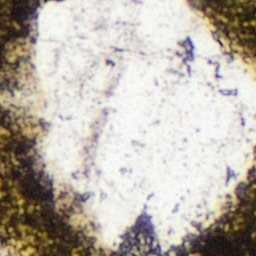cement_matrix: (0, 104, 156, 255), (171, 168, 255, 255), (0, 0, 44, 91), (193, 0, 255, 59), (180, 39, 193, 62)
gravel_crushed_stones: (0, 0, 255, 255), (179, 38, 194, 63), (0, 242, 28, 255)
